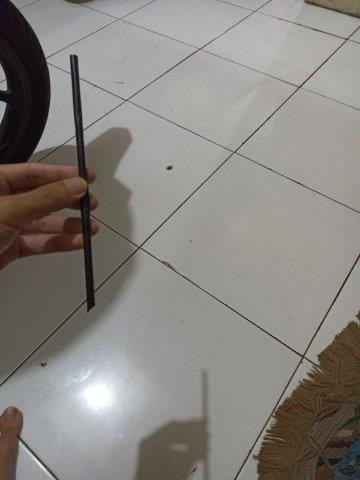sedotan: (69, 55, 96, 312)
